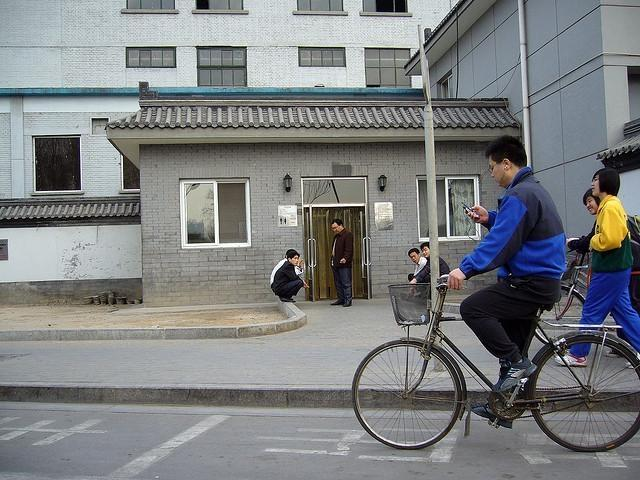bicycle: (350, 272, 640, 454), (548, 250, 594, 318)
